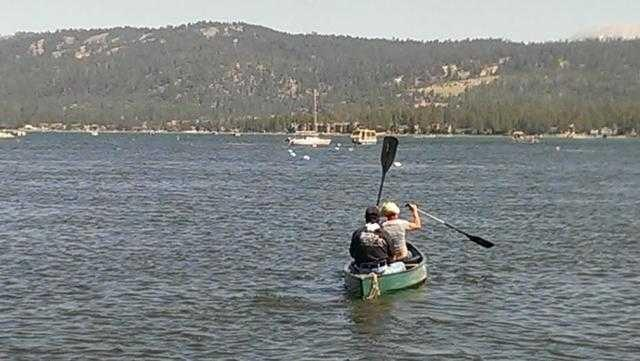kayak: (346, 255, 428, 299), (287, 99, 333, 148), (287, 134, 332, 147), (352, 128, 377, 143), (0, 130, 22, 138)
